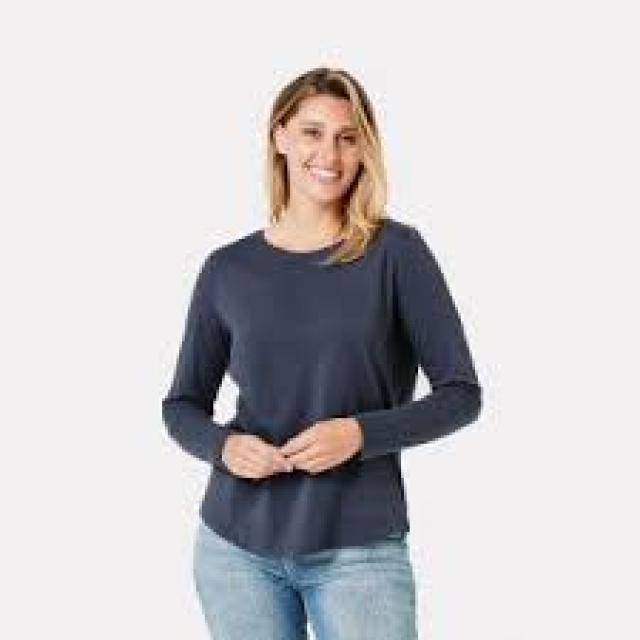plain: (153, 204, 490, 540)
